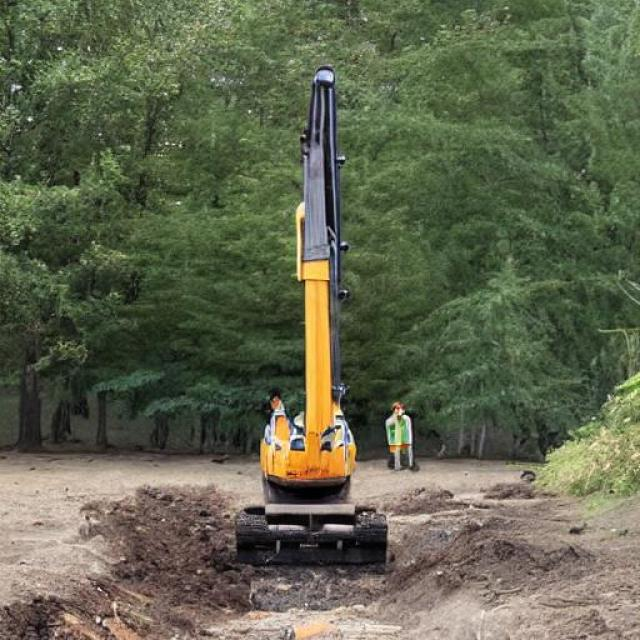excavator: (262, 167, 639, 639)
